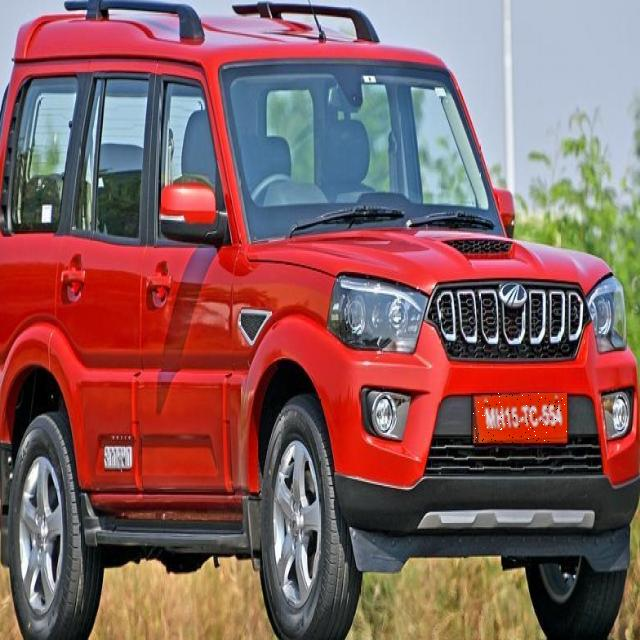Plate: (472, 394, 568, 444)
